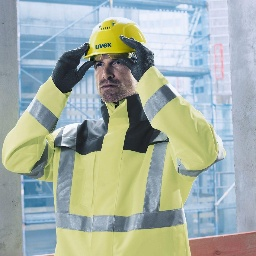helmet: (78, 20, 150, 64)
person: (25, 20, 225, 256)
vest: (35, 97, 223, 251)
